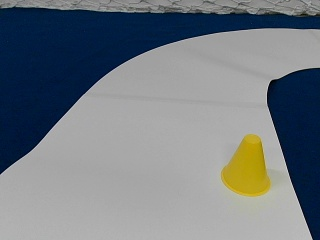cone: (220, 135, 271, 196)
